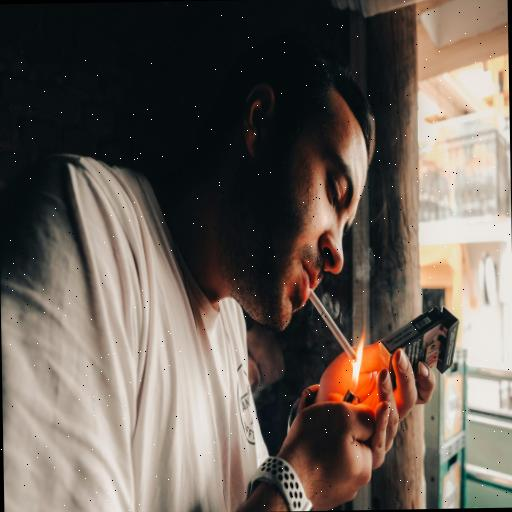dataset-deteksi-merokok: (260, 130, 386, 407)
